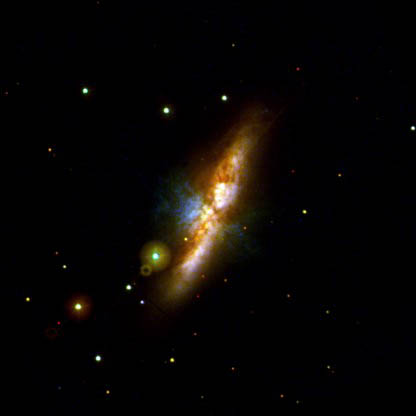Messier 82: (146, 99, 276, 315)
